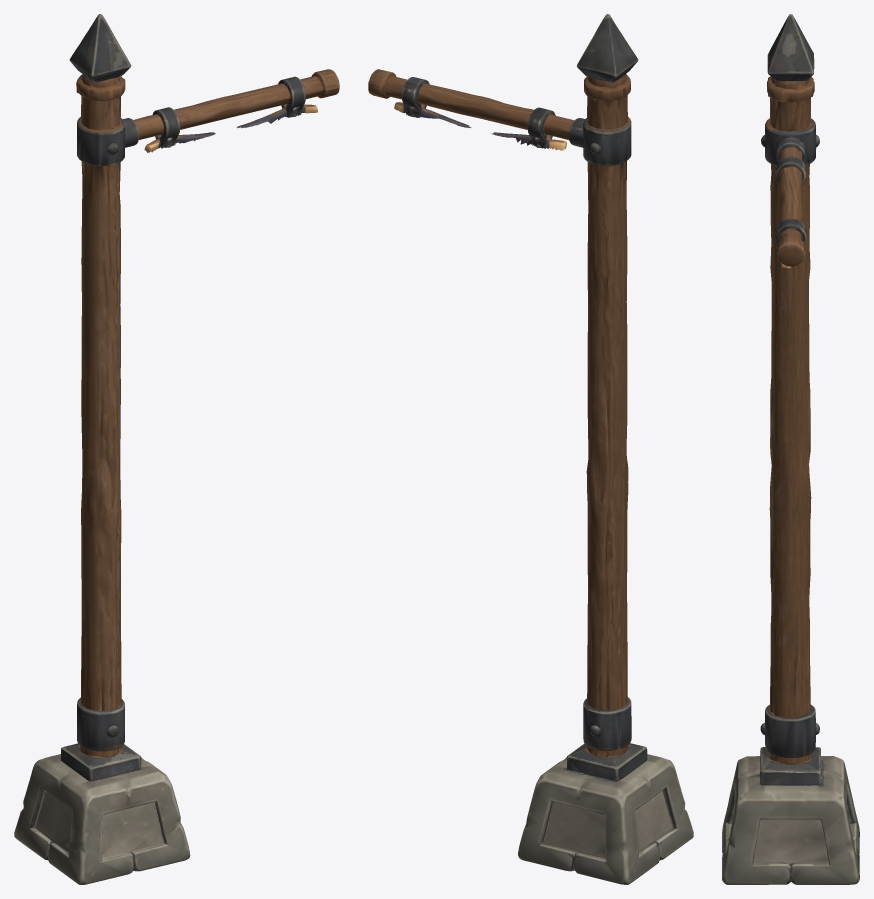
The model's file is BannerPoleStone.glb.
3 renders of one model, left to right at view 1: azimuth 30°, elevation 25°; view 2: azimuth 150°, elevation 25°; view 3: azimuth 270°, elevation 25°, orthographic.
Parts seen in each view (by area): view 1: BannerPoleStone; view 2: BannerPoleStone; view 3: BannerPoleStone.
Part boxes in pixels (x1,y1,x2,y2): BannerPoleStone: (14,14,339,884); BannerPoleStone: (368,14,693,884); BannerPoleStone: (722,14,859,884).
Size of the model in its own units: 1.13 by 3.12 by 0.4622.
1 material, 1 textured.
